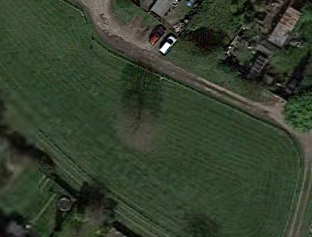tree: (113, 104, 159, 155)
